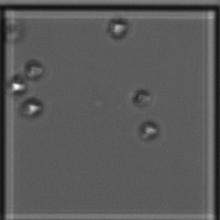Dead Cell: (5, 14, 27, 49)
Living Cell: (138, 118, 164, 142), (3, 73, 29, 97), (19, 97, 45, 121), (108, 17, 134, 41), (131, 87, 157, 109), (22, 59, 48, 81)
